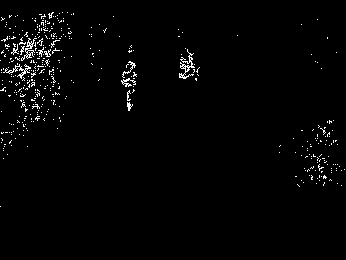person: (123, 57, 142, 115)
